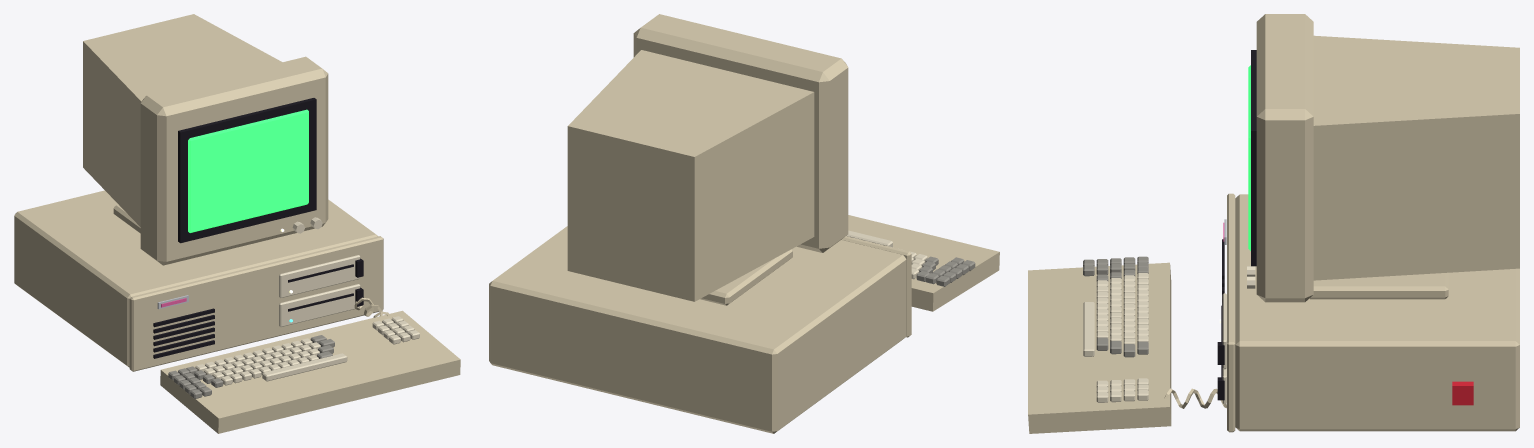
3 views of the same model, side by side, from view 1: azimuth 30°, elevation 25°; view 2: azimuth 150°, elevation 25°; view 3: azimuth 270°, elevation 25° (orthographic). The views are drawn at different scales.
Visible parts, largest first — view 1: case, monitor_front, monitor_bell, keyboard_case, front_bezel, crt_screen, screen_surround, floppy_0_face, floppy_1_face, key_space; view 2: case, monitor_bell, monitor_front, keyboard_case, monitor_foot, front_bezel; view 3: monitor_bell, case, keyboard_case, monitor_front, monitor_foot, front_bezel, screen_surround, key_space, crt_screen, power_switch.
Part boxes in pixels (<box>): case: <box>14,190,378,367</box>; monitor_front: <box>140,56,328,265</box>; monitor_bell: <box>83,14,282,226</box>; keyboard_case: <box>160,310,460,433</box>; front_bezel: <box>129,236,383,371</box>; crt_screen: <box>188,109,308,232</box>; screen_surround: <box>178,98,316,243</box>; floppy_0_face: <box>279,255,360,297</box>; floppy_1_face: <box>279,284,360,326</box>; key_space: <box>262,353,347,381</box>; case: <box>489,226,906,433</box>; monitor_bell: <box>567,50,814,301</box>; monitor_front: <box>633,14,848,252</box>; keyboard_case: <box>848,215,999,311</box>; monitor_foot: <box>700,249,792,305</box>; front_bezel: <box>841,236,911,337</box>; monitor_bell: <box>1313,35,1519,280</box>; case: <box>1235,194,1519,431</box>; keyboard_case: <box>1028,262,1171,433</box>; monitor_front: <box>1256,14,1313,302</box>; monitor_foot: <box>1309,272,1448,299</box>; front_bezel: <box>1227,193,1235,432</box>; screen_surround: <box>1251,50,1256,266</box>; key_space: <box>1083,302,1094,356</box>; crt_screen: <box>1248,65,1250,250</box>; power_switch: <box>1452,381,1473,405</box>.
Size of the model in its own units: 0.515 by 0.466 by 0.6916.
